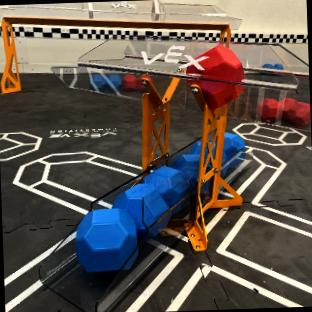Goal: (51, 36, 309, 164)
V5_BLUE: (77, 206, 137, 271), (115, 182, 166, 240), (145, 167, 190, 206), (171, 153, 199, 183), (222, 132, 243, 160)
V5_RED: (186, 44, 244, 107), (258, 98, 310, 127), (258, 99, 277, 119), (123, 74, 138, 90)
blueingoal: (200, 82, 242, 108)
